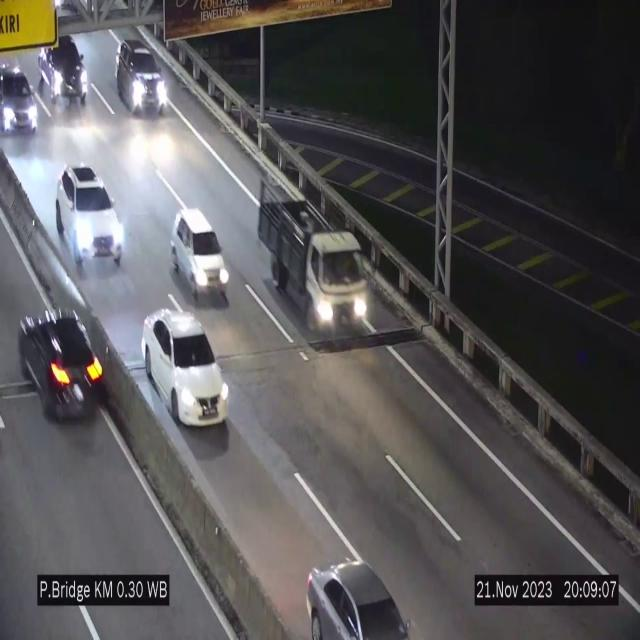Car: (15, 291, 109, 423), (297, 538, 415, 640), (142, 309, 229, 430), (56, 165, 122, 268), (171, 210, 229, 304), (117, 39, 167, 115), (40, 34, 91, 106), (0, 73, 42, 141)
Truck: (258, 173, 372, 342)
